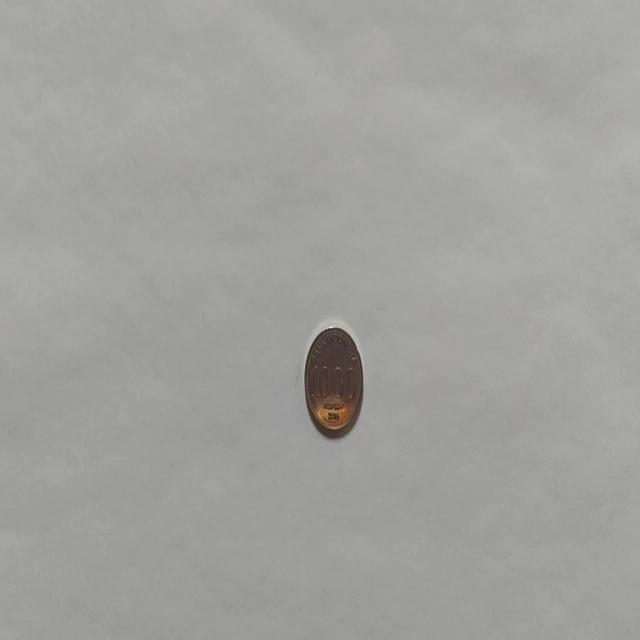seribu rupiah koin: (302, 321, 364, 436)
